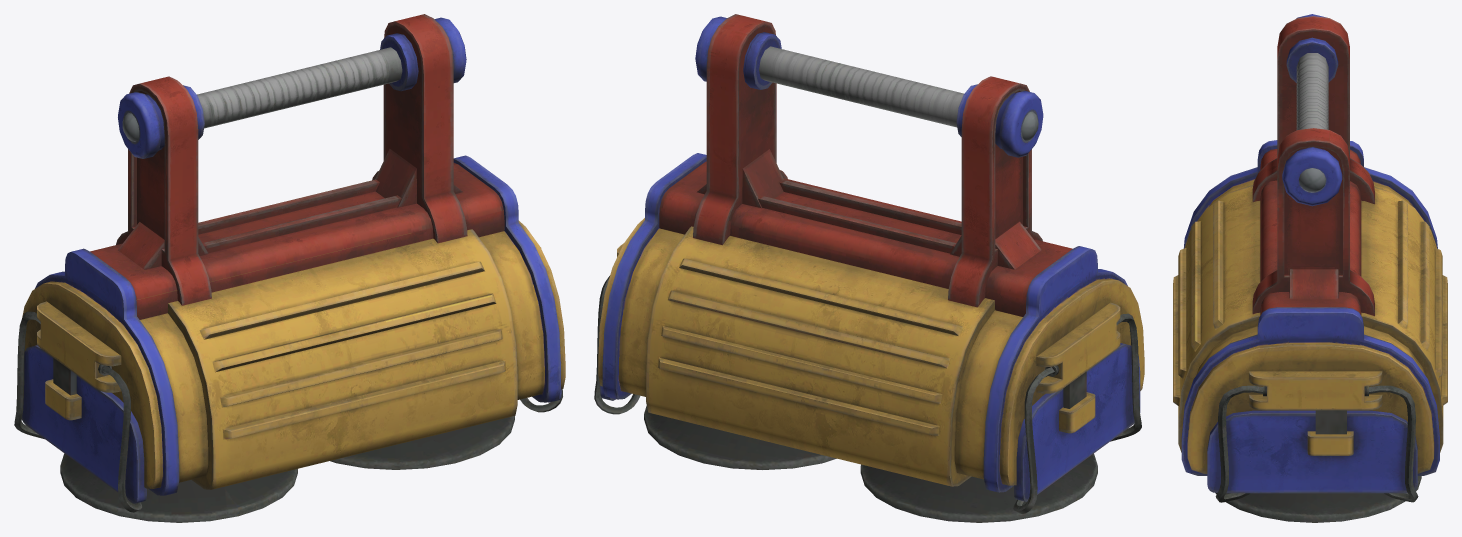
The model's file is GrabHandleCH4.fbx.
3 views of the same model, side by side, from view 1: azimuth 30°, elevation 25°; view 2: azimuth 150°, elevation 25°; view 3: azimuth 270°, elevation 25° (orthographic). The views are drawn at different scales.
Parts seen in each view (by area): view 1: SM_GrapHandle.mo; view 2: SM_GrapHandle.mo; view 3: SM_GrapHandle.mo.
Part boxes in pixels (x1,y1,x2,y2): SM_GrapHandle.mo: [14, 14, 565, 522]; SM_GrapHandle.mo: [594, 14, 1144, 522]; SM_GrapHandle.mo: [1173, 14, 1447, 522].
Size of the model in its own units: 80.66 by 67.28 by 47.48.
